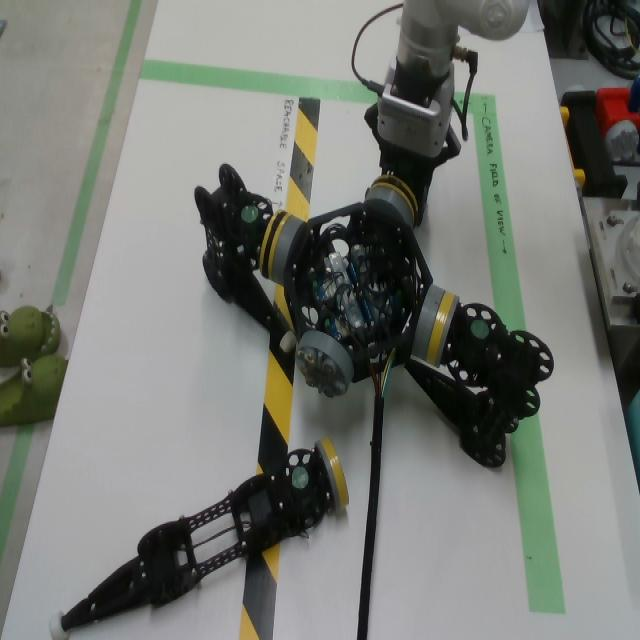body: (283, 203, 432, 384)
body_connector: (296, 331, 354, 399), (411, 285, 445, 360), (272, 216, 305, 285), (364, 185, 414, 229)
gripper: (364, 104, 461, 188)
leg: (48, 437, 349, 640), (405, 292, 554, 468), (194, 163, 297, 353), (366, 148, 429, 228)
leg_connector: (366, 173, 420, 228), (425, 292, 459, 369), (315, 437, 349, 513), (259, 209, 288, 280)
leg_marker: (292, 467, 309, 489), (471, 320, 489, 340), (241, 207, 258, 221)
